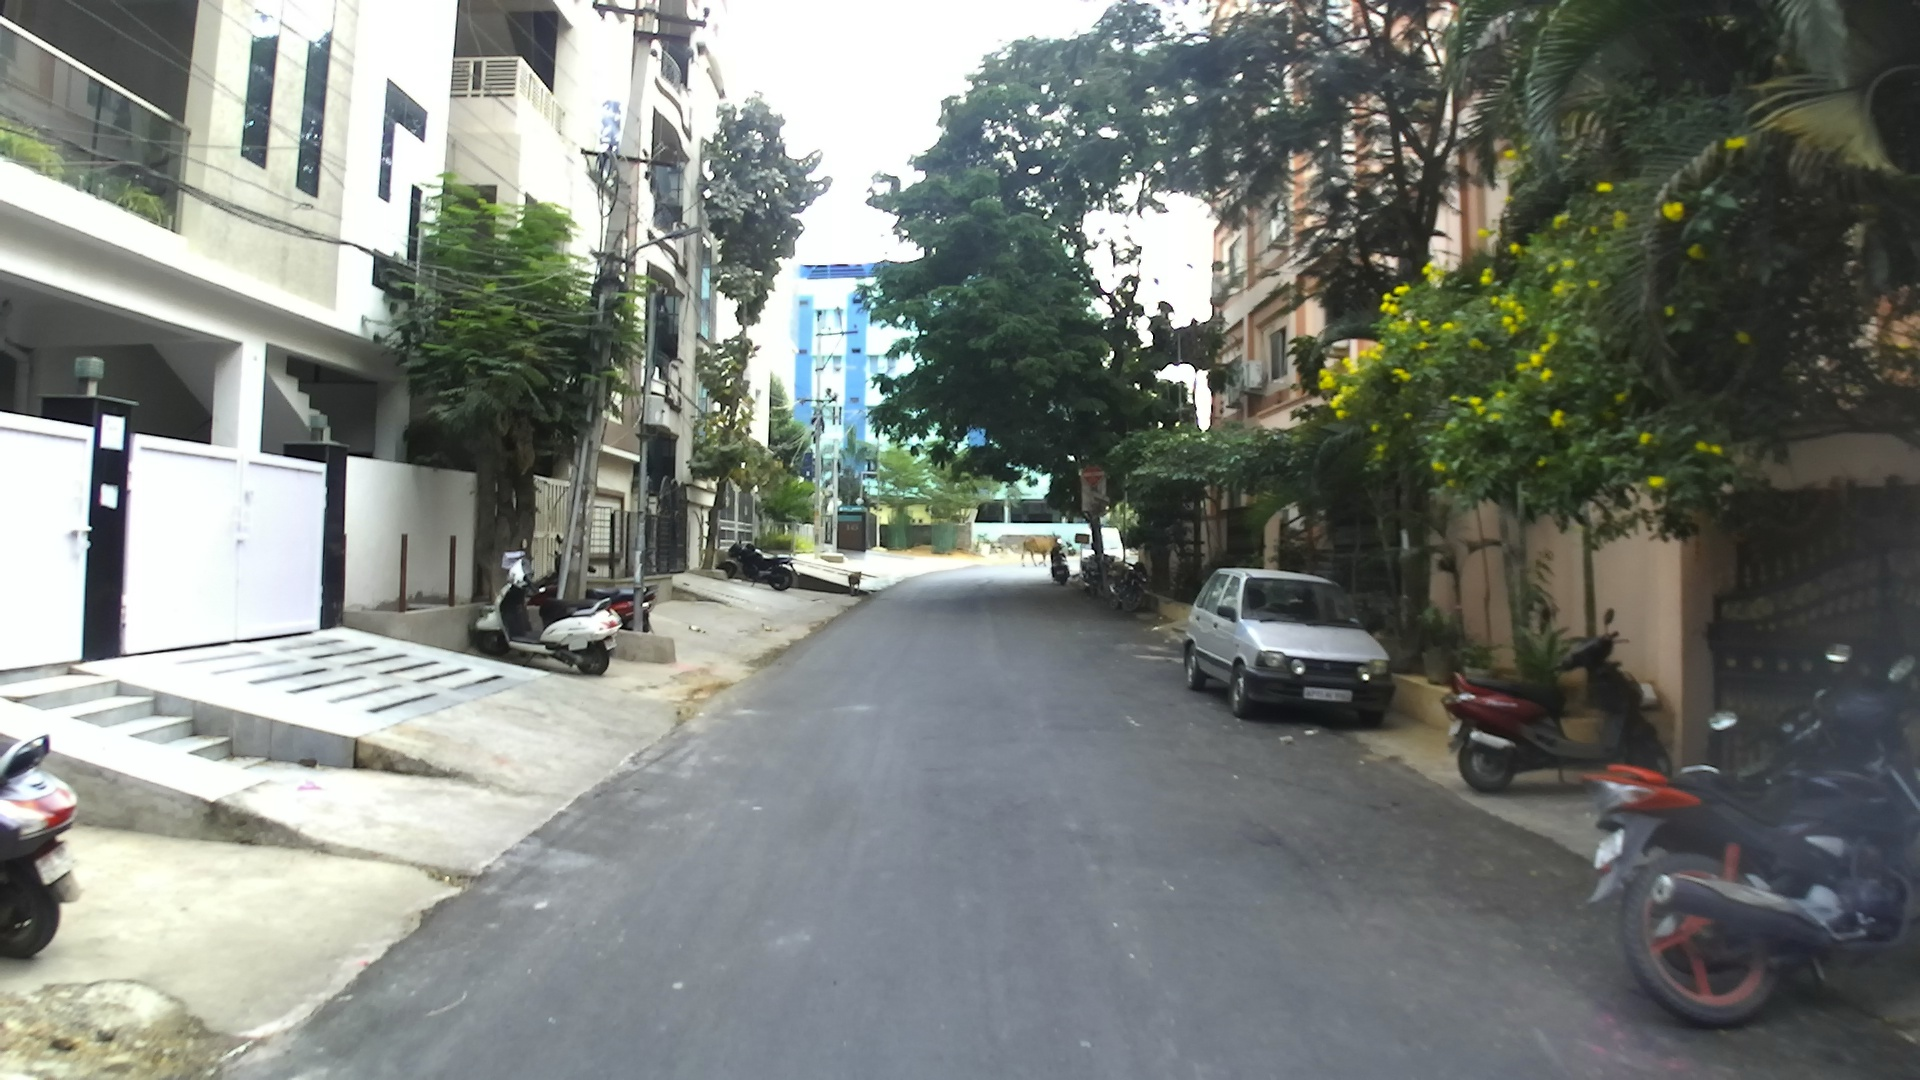vehicle: (1580, 649, 1919, 1029), (1443, 615, 1673, 795), (1180, 564, 1393, 729), (0, 724, 80, 960)
